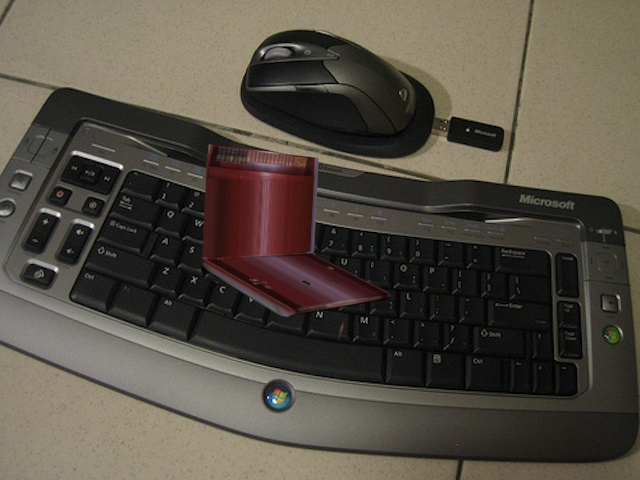laptop_computer: (192, 144, 400, 344)
